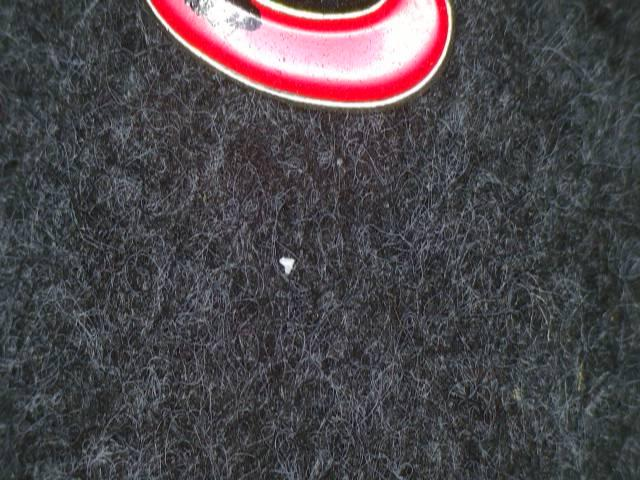Red-Hat: (128, 0, 476, 161)
Scratch: (166, 0, 272, 44)
